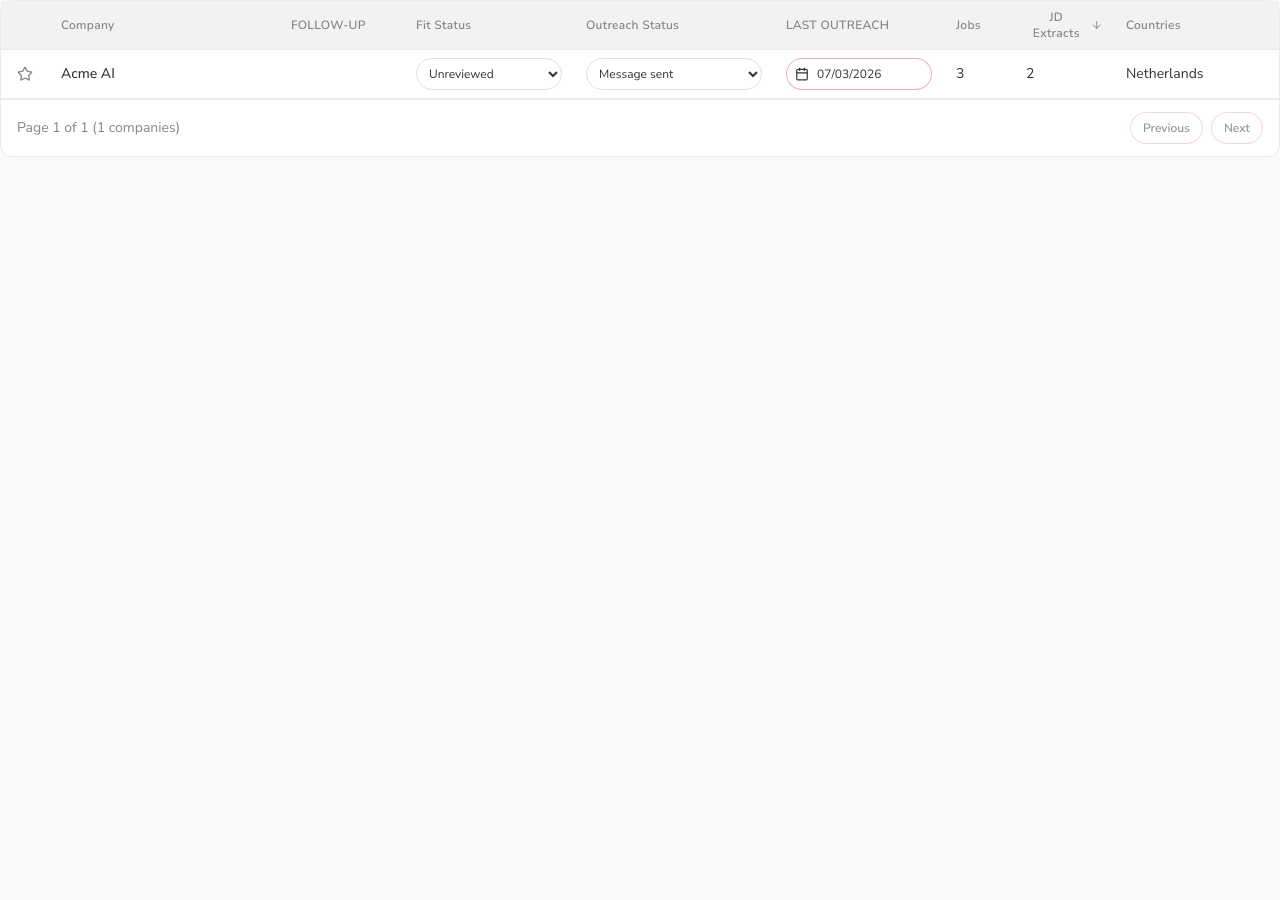
CompanyTable › does not allow Last Outreach to be cleared while the company is outbound
Click the button named "Edit Last Outreach" at (859, 74), box 786,58 -> 932,90
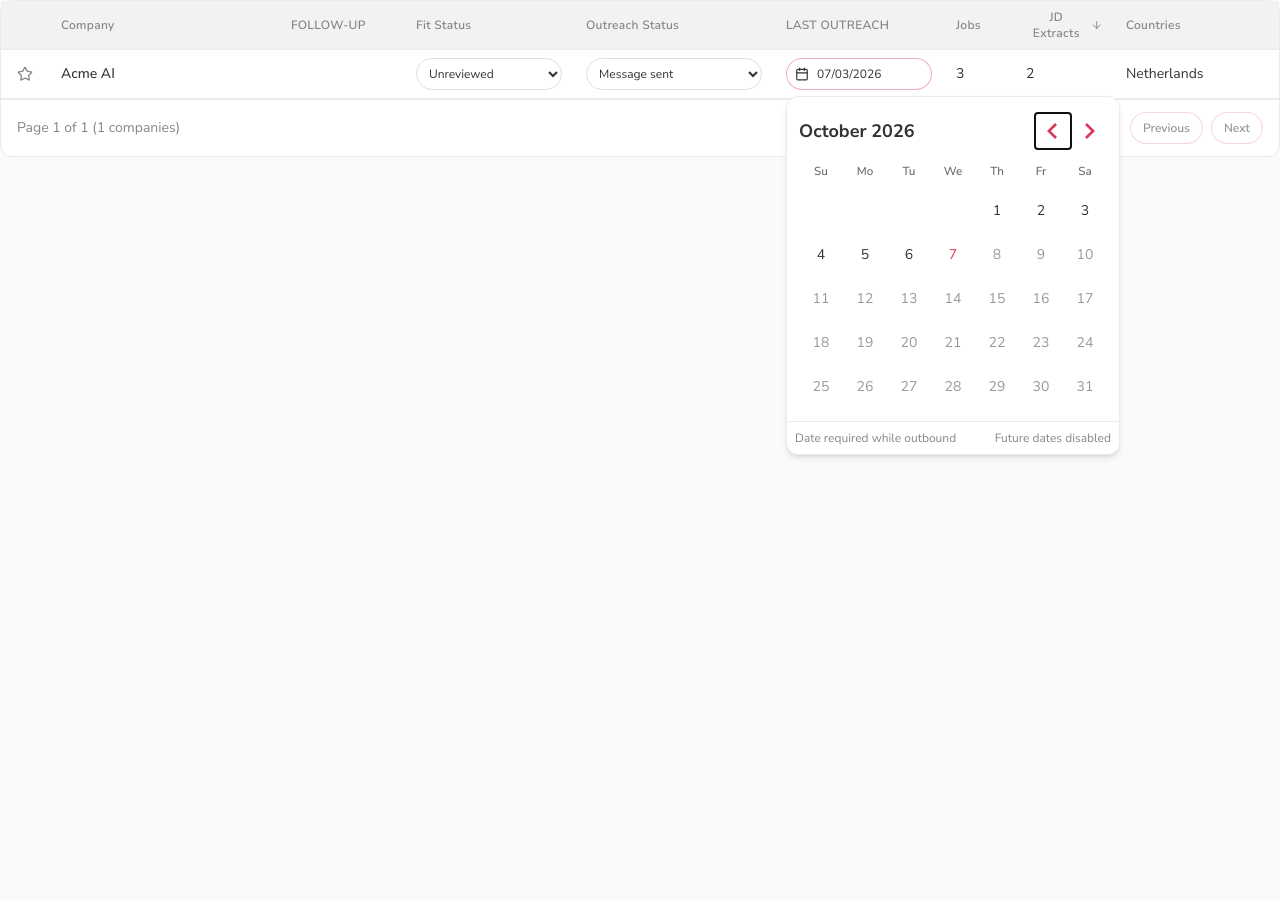
expect the text "Date required while outbound" is shown: met, box 795,430 -> 956,446
